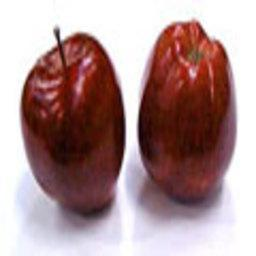apple: (18, 28, 126, 216), (138, 18, 237, 198)
